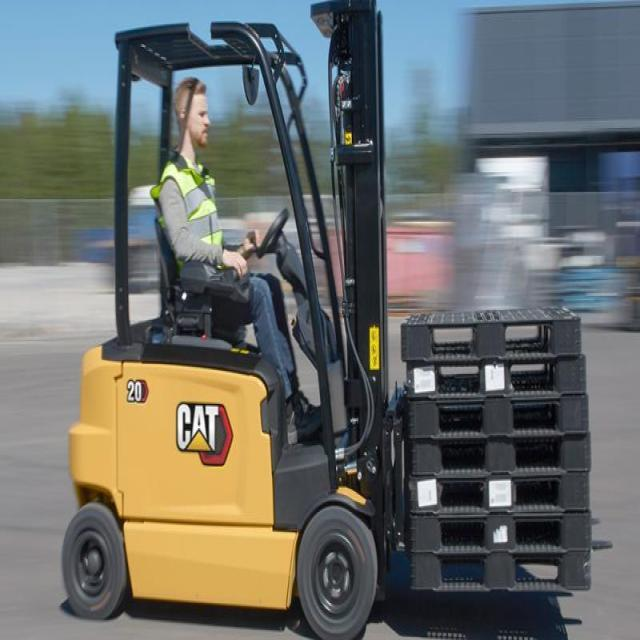driver: (150, 71, 292, 370)
forklift: (59, 9, 416, 631)
